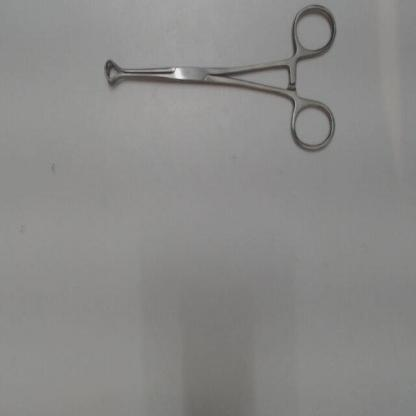Babcock Tissue Forceps: (97, 1, 341, 158)
